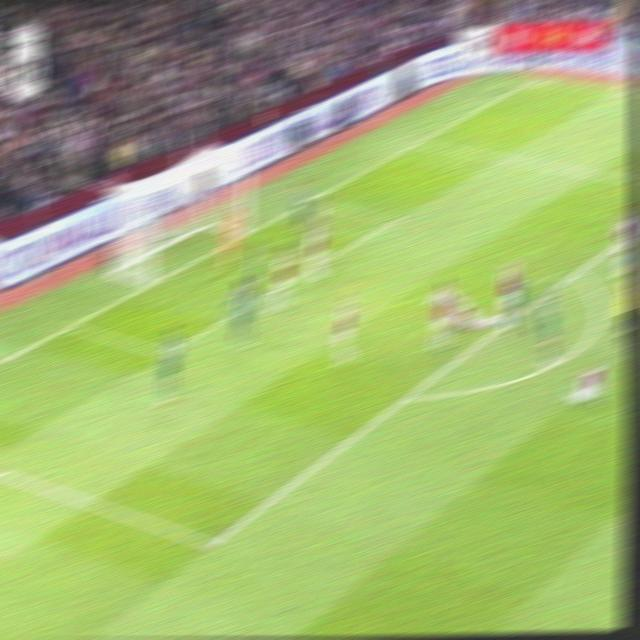bigarea_bottom_inner: (194, 524, 228, 563)
bigarea_top_outter: (409, 137, 426, 148)
bottom_arc_area_intersection: (396, 388, 419, 407)
corner: (525, 75, 545, 85)
smallarea_bottom_outter: (60, 313, 84, 335)
smallarea_top_inner: (384, 212, 402, 226)
smallarea_top_outter: (299, 196, 317, 208)
top_arc_area_intersection: (569, 267, 584, 279)
